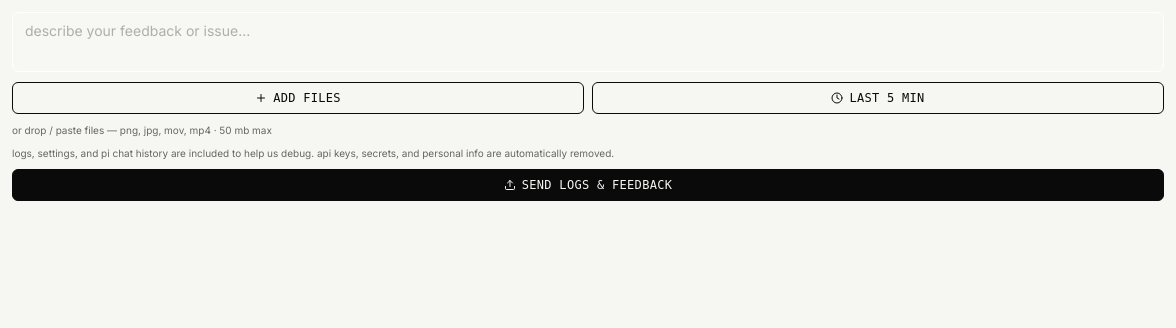
Test: ShareLogsButton attachments › attaches a file picked via the native dialog (extension-filtered)
The width and height of the screenshot is (1176, 328).
Click the button "add files" at (298, 98), box [12,82,584,114]
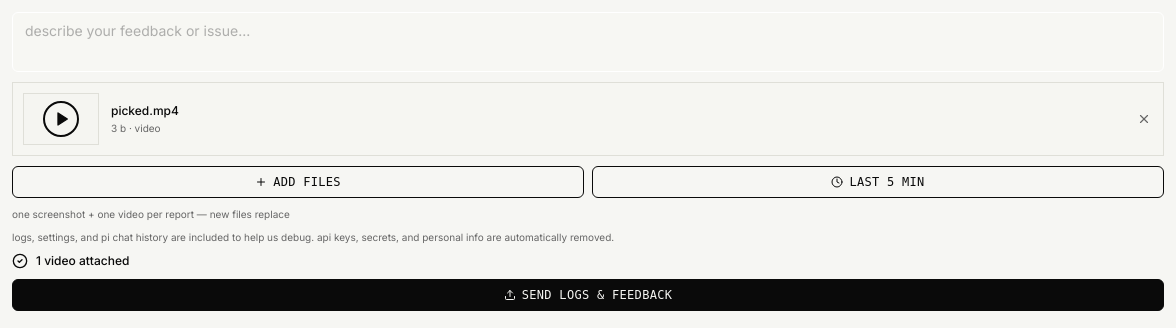
Expected: the element with test id "video-attachment" shows "picked.mp4", [111,102,179,118]
